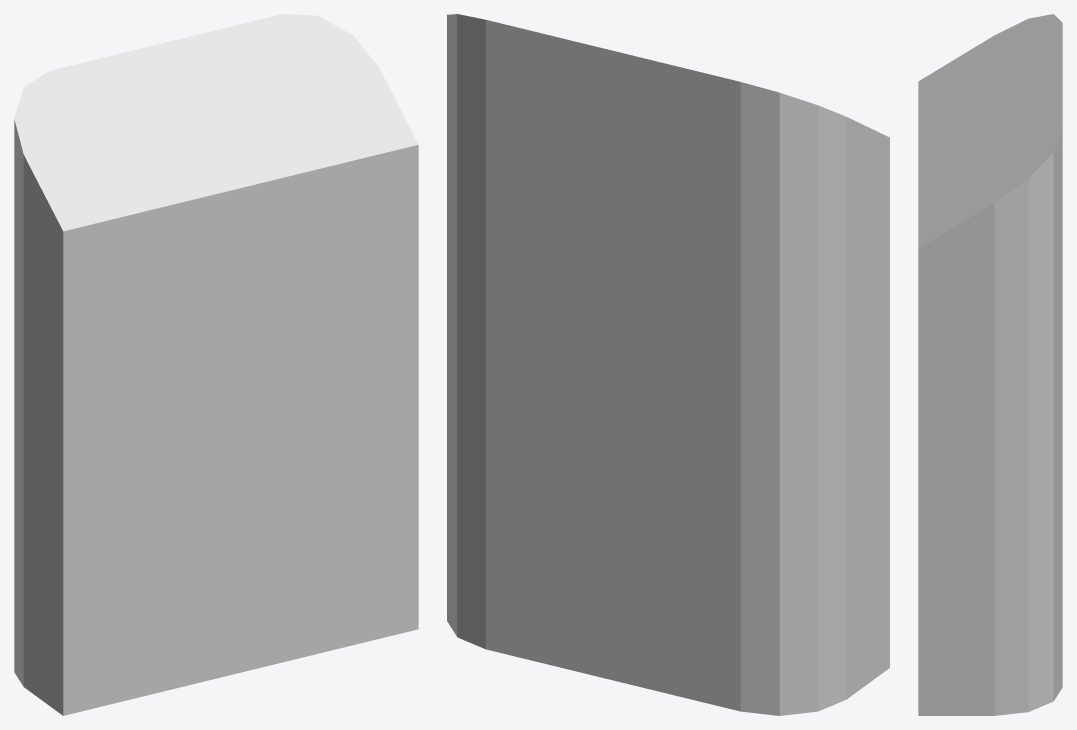
File: SM_ConfiguratorButtonHolder.fbx
The picture shows the model from 3 angles, left to right: view 1: azimuth 30°, elevation 25°; view 2: azimuth 150°, elevation 25°; view 3: azimuth 270°, elevation 25°; orthographic projection. The views are drawn at different scales.
Parts seen in each view (by area): view 1: Base.002; view 2: Base.002; view 3: Base.002.
Part boxes in pixels (<box>): Base.002: <box>14,14,418,715</box>; Base.002: <box>447,14,889,715</box>; Base.002: <box>918,14,1062,715</box>.
Size of the model in its own units: 0.8617 by 1.33 by 0.3148.
Materials: 1 (1 with a texture image).
